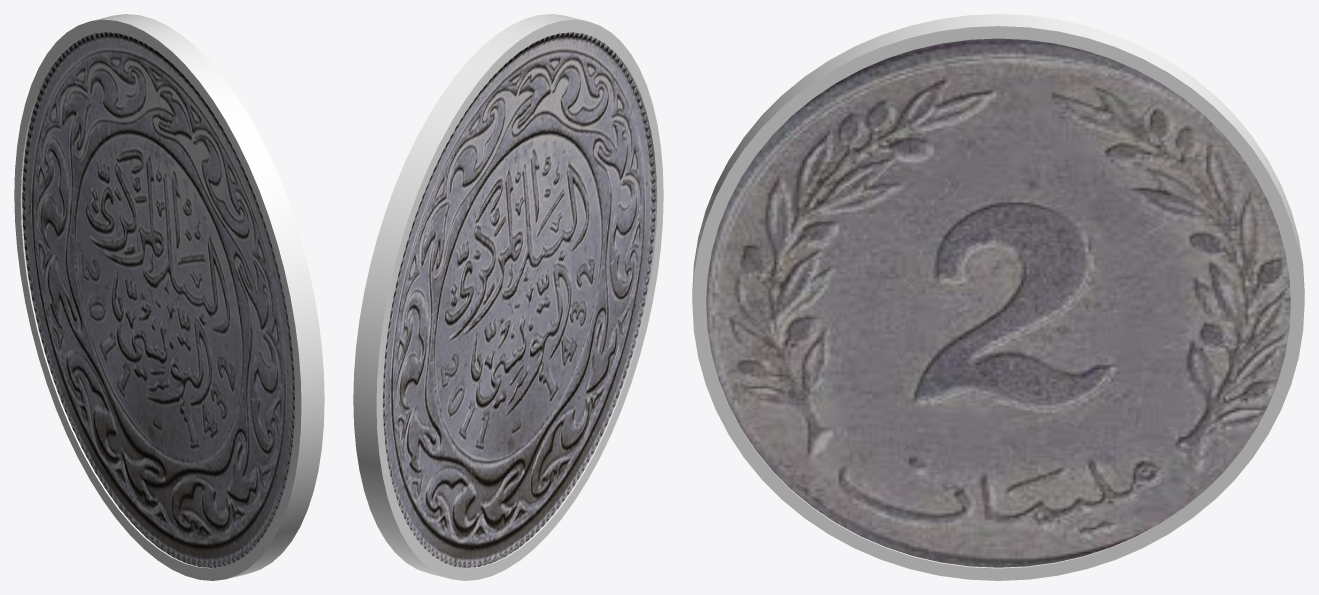
The picture shows the model from 3 angles, left to right: view 1: azimuth 30°, elevation 25°; view 2: azimuth 150°, elevation 25°; view 3: azimuth 270°, elevation 25°; orthographic projection. The views are drawn at different scales.
Parts seen in each view (by area): view 1: Cylinder; view 2: Cylinder; view 3: Cylinder.
Part boxes in pixels (<box>): Cylinder: <box>14,14,324,580</box>; Cylinder: <box>353,14,663,580</box>; Cylinder: <box>692,14,1304,580</box>.
Size of the model in its own units: 0.0646 by 1.39 by 1.39.
Materials: 3 (2 with a texture image).
